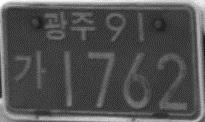1: (59, 48, 77, 108), (134, 9, 147, 43)
2: (155, 51, 190, 115)
6: (121, 50, 153, 110)
7: (85, 48, 117, 110)
9: (104, 10, 127, 43)
가: (13, 48, 47, 92)
광주_O: (42, 8, 96, 42)
